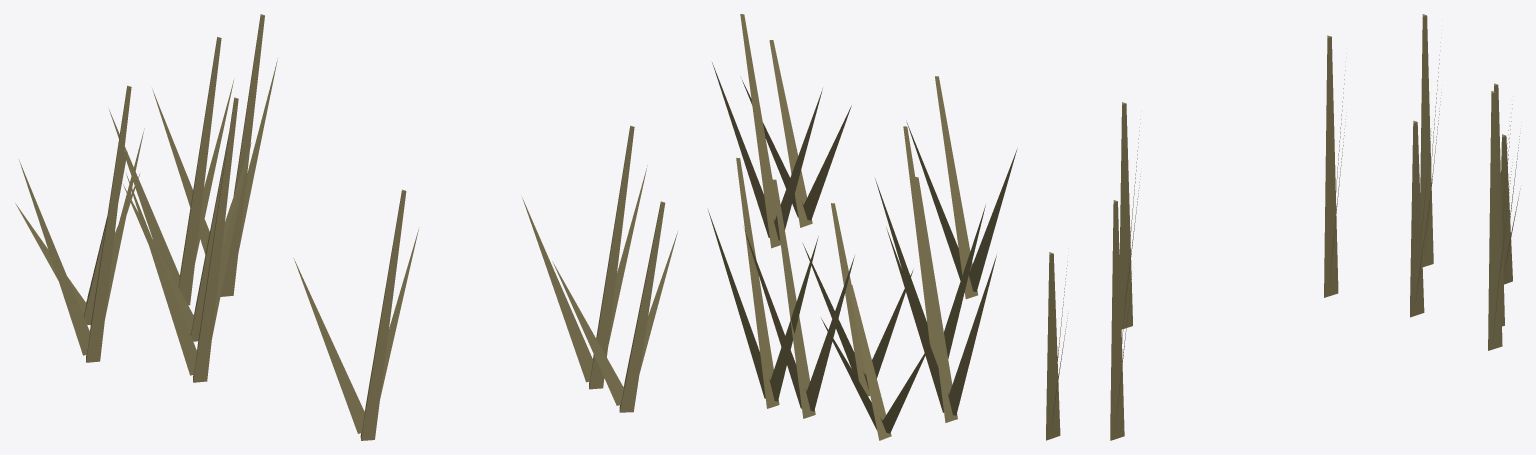
Rendered from NAT_Ground_01_DryGrass.glb.
The picture shows the model from 3 angles, left to right: view 1: azimuth 30°, elevation 25°; view 2: azimuth 150°, elevation 25°; view 3: azimuth 270°, elevation 25°; orthographic projection. The views are drawn at different scales.
Visible parts, largest first — view 1: NAT_Ground_01_DryGrass; view 2: NAT_Ground_01_DryGrass; view 3: NAT_Ground_01_DryGrass.
Part boxes in pixels (x1,y1,x2,y2): NAT_Ground_01_DryGrass: [15, 14, 677, 440]; NAT_Ground_01_DryGrass: [708, 14, 1017, 440]; NAT_Ground_01_DryGrass: [1046, 14, 1520, 440].
Size of the model in its own units: 0.7525 by 0.4148 by 0.6445.
